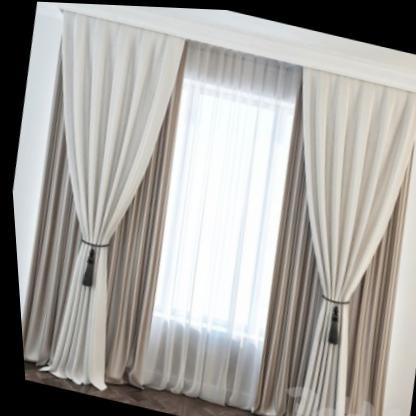Curtains: (0, 7, 416, 416), (17, 11, 186, 391), (251, 65, 416, 416)
